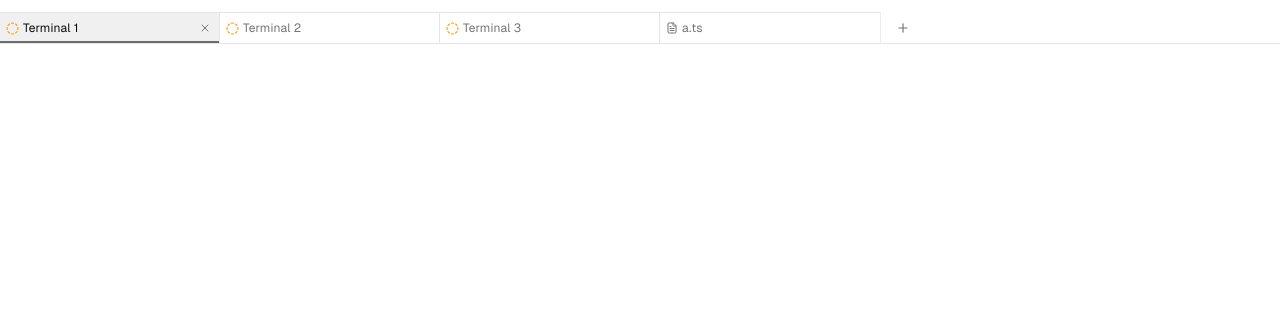
it: TabBar editor rename (#335) › shows Rename ahead of Copy Path in the editor menu
The image size is (1280, 335).
Right-click the tab "a.ts": (770, 28) [660,12,880,43]
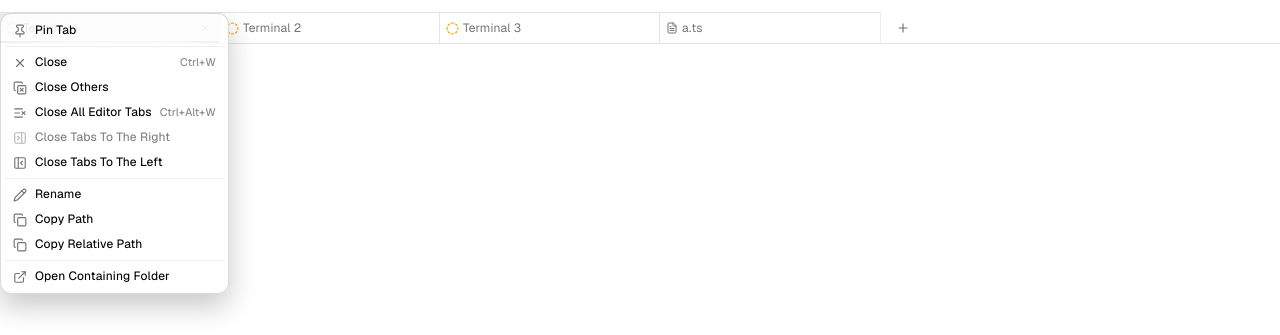
Check: the menu item "Copy Path" is shown, box [13,211,94,227]
Check: the menu item "Rename" is shown, box [13,186,81,202]
